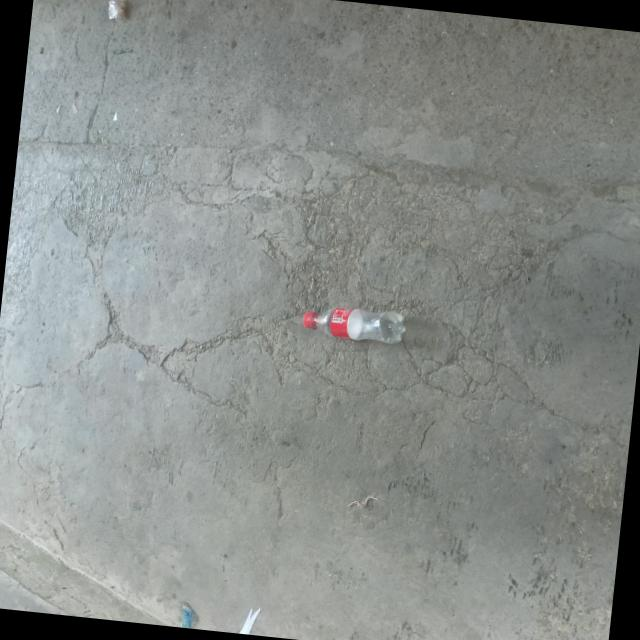Bottle: (302, 307, 404, 343)
